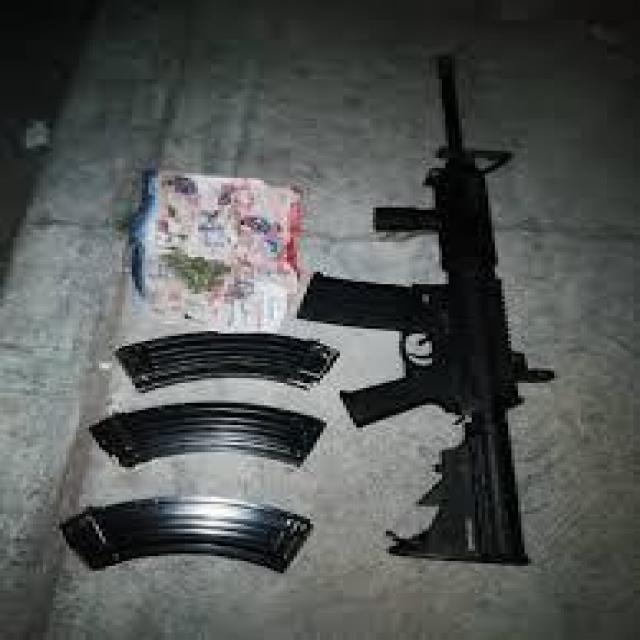weapon: (295, 51, 559, 570)
